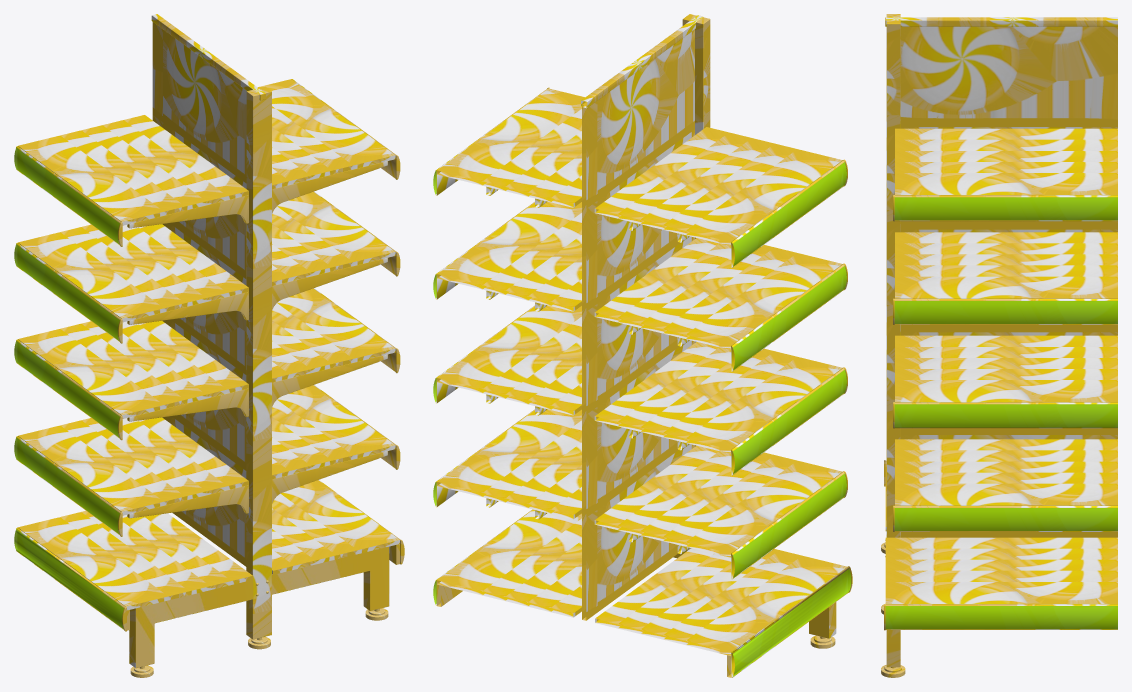
The model's file is shelf.fbx.
The picture shows the model from 3 angles, left to right: view 1: azimuth 30°, elevation 25°; view 2: azimuth 150°, elevation 25°; view 3: azimuth 270°, elevation 25°; orthographic projection. The views are drawn at different scales.
Visible parts, largest first — view 1: PeterD_SingleFace_PharmacyShelf_MODEL; view 2: PeterD_SingleFace_PharmacyShelf_MODEL; view 3: PeterD_SingleFace_PharmacyShelf_MODEL.
Boxes of the visible parts, x1,y1,x2,y2 form: PeterD_SingleFace_PharmacyShelf_MODEL: (14, 14, 404, 677); PeterD_SingleFace_PharmacyShelf_MODEL: (433, 14, 852, 677); PeterD_SingleFace_PharmacyShelf_MODEL: (881, 14, 1117, 677).
Size of the model in its own units: 73.26 by 137 by 49.77.
